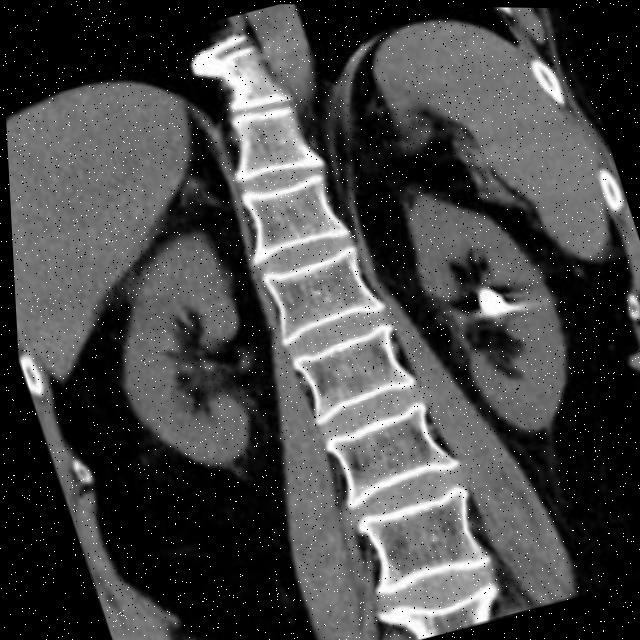Tas_Var: (466, 274, 515, 325)
